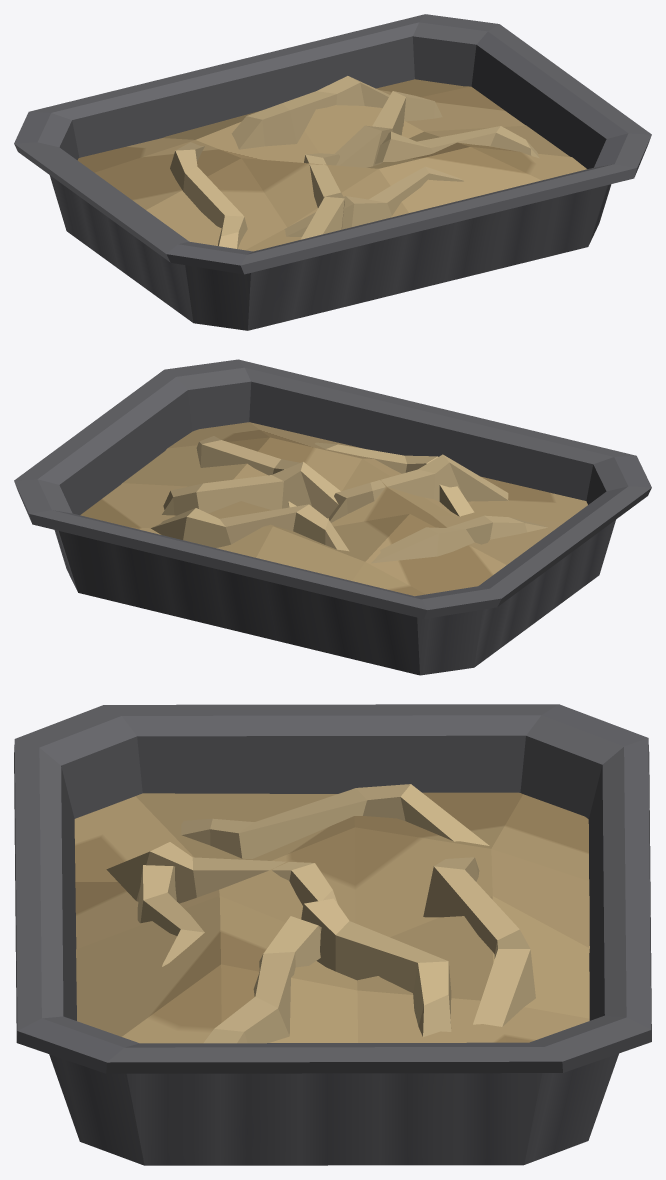
The model's file is SM_Prop_Food_Tray_03.fbx.
The picture shows the model from 3 angles, top to bottom: view 1: azimuth 30°, elevation 25°; view 2: azimuth 150°, elevation 25°; view 3: azimuth 270°, elevation 25°; orthographic projection. The views are drawn at different scales.
Visible parts, largest first — view 1: SM_Prop_Food_Tray_03; view 2: SM_Prop_Food_Tray_03; view 3: SM_Prop_Food_Tray_03.
Part boxes in pixels (x1=…): SM_Prop_Food_Tray_03: x1=14, y1=14, x2=651, y2=330; SM_Prop_Food_Tray_03: x1=14, y1=359, x2=651, y2=675; SM_Prop_Food_Tray_03: x1=14, y1=704, x2=651, y2=1165.
Bounding box in the file's own units: 58.72 × 10.9 × 44.19.
